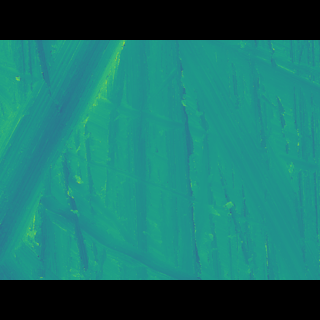Loch: (0, 70, 320, 250)
